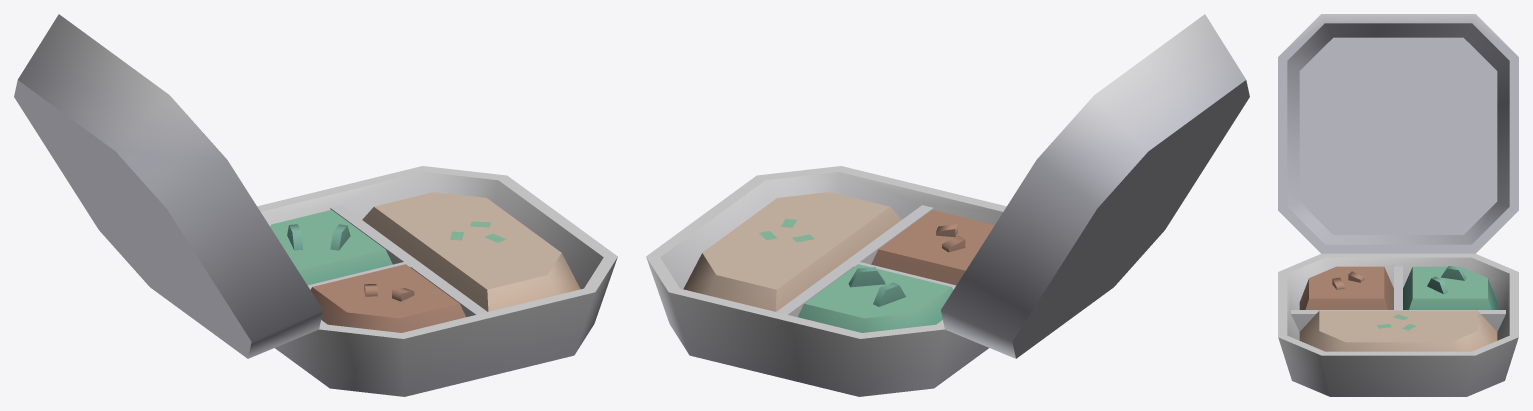
The model's file is styrofoam-dinner.glb.
3 renders of one model, left to right at view 1: azimuth 30°, elevation 25°; view 2: azimuth 150°, elevation 25°; view 3: azimuth 270°, elevation 25°, orthographic. The views are drawn at different scales.
Visible parts, largest first — view 1: styrofoam-dinner; view 2: styrofoam-dinner; view 3: styrofoam-dinner.
Boxes of the visible parts, x1,y1,x2,y2 form: styrofoam-dinner: (14,14,617,396); styrofoam-dinner: (646,14,1249,396); styrofoam-dinner: (1278,14,1518,396).
Bounding box in the file's own units: 1.26 × 0.822 × 0.7589.
